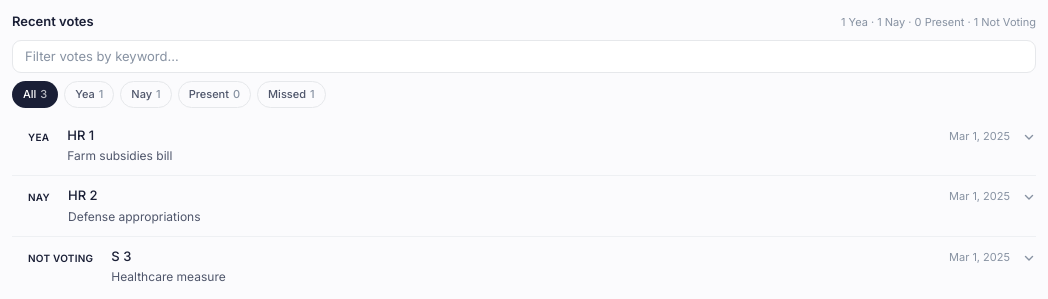
Test: <VoteList> › filters by how they voted
# The "Nay" filter chip — pick the one inside the filter row (has a count).
Click the button named "Nay 1" at [146, 94], box [120,81,172,108]
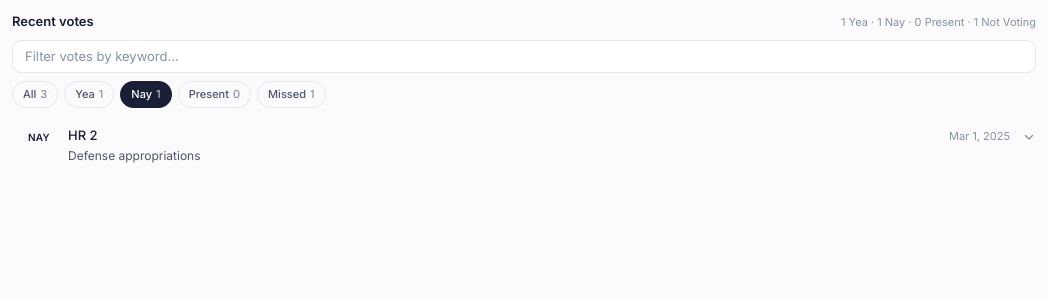
Expected: the text "HR 2" is shown, [68,126,98,145]
Expected: the button "HR 1" is gone
